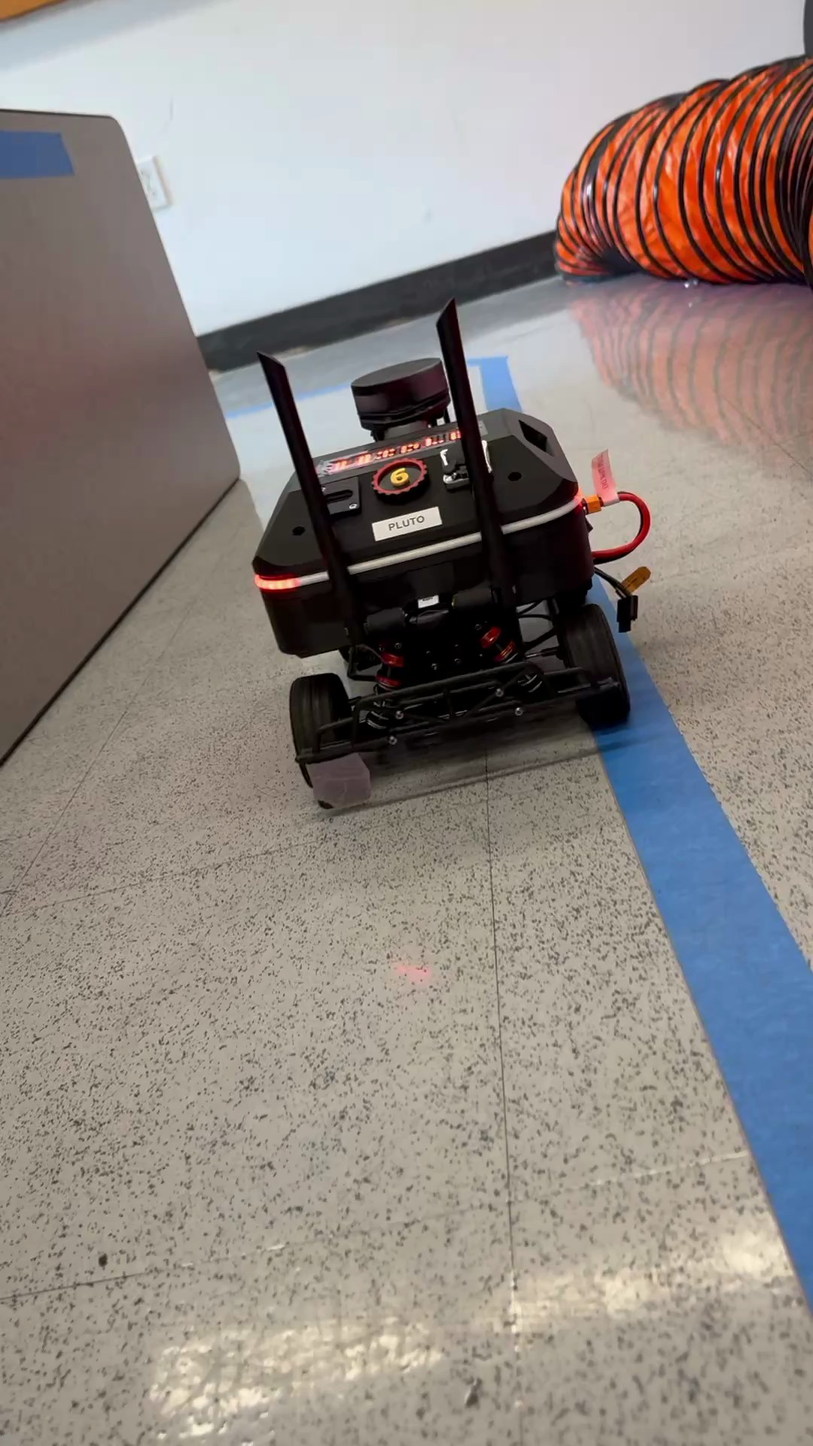racecar: (249, 297, 654, 810)
